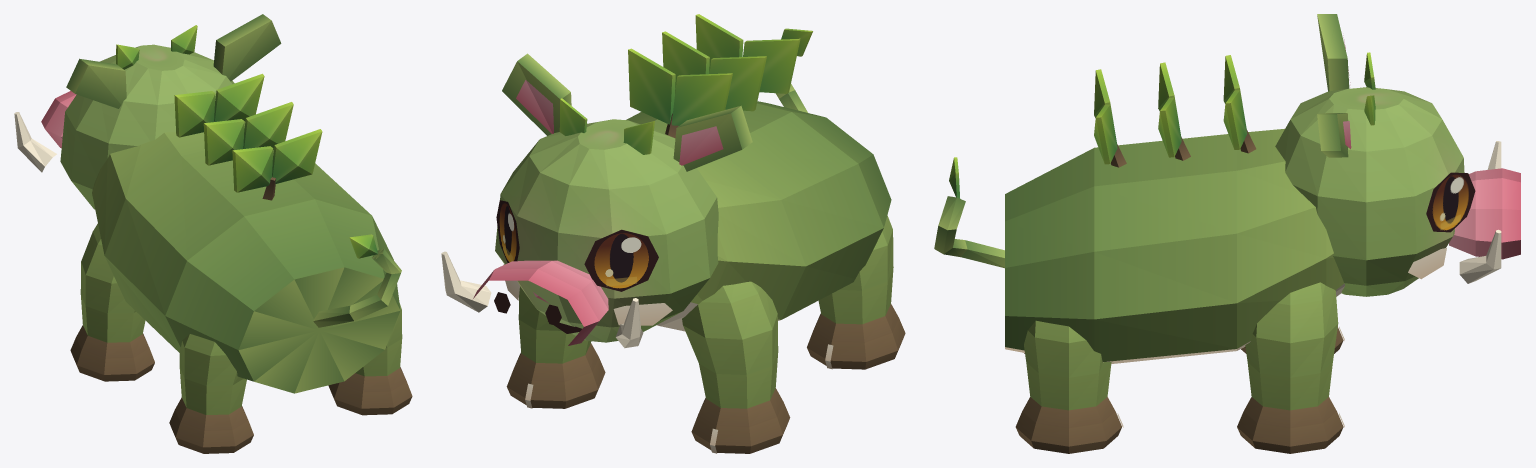
File: BrambleBoar_S3_FacetedReview.glb
The picture shows the model from 3 angles, left to right: view 1: azimuth 30°, elevation 25°; view 2: azimuth 150°, elevation 25°; view 3: azimuth 270°, elevation 25°; orthographic projection. The views are drawn at different scales.
Visible parts, largest first — view 1: Body, Head, LeftFrontLeg, LeftBackLeg, RightBackLeg, RightEar, LeftEar, Tail, YoungShoot21, YoungShoot01, YoungShoot11, YoungShoot2-1 (+7 smaller); view 2: Body, Head, LeftFrontLeg, LeftBackLeg, RightFrontLeg, Snout, LeftEye, YoungShoot01, YoungShoot0-1, LeftEar, RightEar, YoungShoot2-1 (+11 smaller); view 3: Body, Head, RightFrontLeg, RightBackLeg, Snout, RightEye, Tail, LeftEar, RightEar, RightTusk, YoungShoot21, YoungShoot11 (+2 smaller).
Part boxes in pixels (x1,y1,x2,y2): Body: (92,122,400,393); Head: (60,44,234,209); LeftFrontLeg: (70,223,154,381); LeftBackLeg: (169,334,253,453); RightBackLeg: (328,303,412,415); RightEar: (213,14,281,81); LeftEar: (66,58,126,108); Tail: (313,248,401,327); YoungShoot21: (272,129,322,183); YoungShoot01: (214,73,264,121); YoungShoot11: (243,102,293,149); YoungShoot2-1: (232,146,273,192); Body: (626,101,891,331); Head: (495,119,718,342); LeftFrontLeg: (682,281,790,453); LeftBackLeg: (807,215,905,369); RightFrontLeg: (506,286,605,408); Snout: (473,260,608,345); LeftEye: (584,229,658,291); YoungShoot01: (628,48,675,124); YoungShoot0-1: (671,73,732,125); LeftEar: (673,105,752,171); RightEar: (502,53,571,135); YoungShoot2-1: (743,38,800,93); Body: (1005,128,1344,363); Head: (1275,87,1464,296); RightFrontLeg: (1237,282,1343,453); RightBackLeg: (1015,320,1121,453); Snout: (1449,168,1520,259); RightEye: (1426,172,1475,232); Tail: (934,196,1004,268); LeftEar: (1317,14,1349,91); RightEar: (1317,113,1348,157); RightTusk: (1459,229,1501,283); YoungShoot21: (1094,104,1117,164); YoungShoot11: (1158,97,1181,157).
Bounding box in the file's own units: 4.11 × 5 × 8.11.
1 material, 1 textured.
